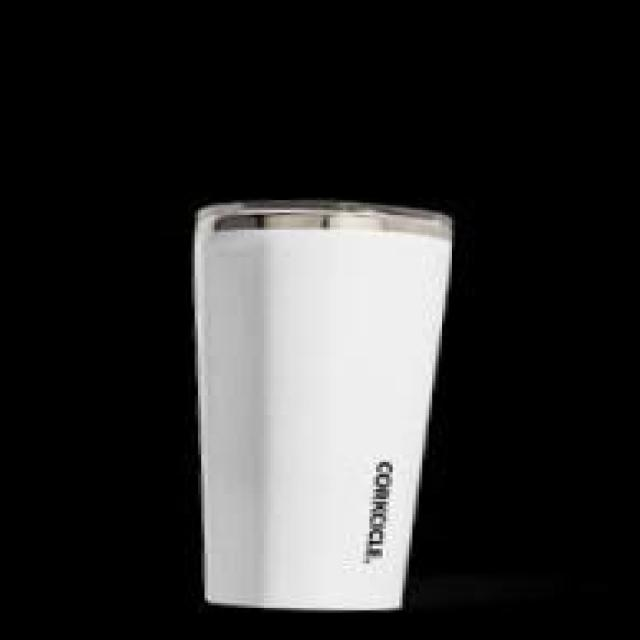bottle: (176, 197, 454, 614)
